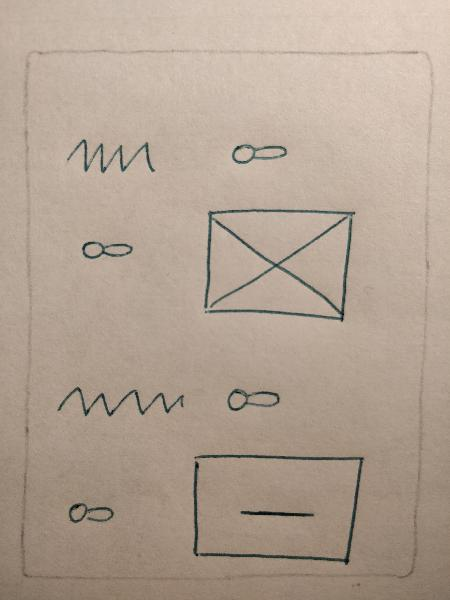image: (192, 199, 365, 337), (182, 447, 371, 568)
switch: (214, 381, 300, 420), (56, 490, 128, 534), (222, 134, 298, 172), (76, 230, 145, 268)
text: (49, 372, 199, 433), (57, 132, 176, 184)
